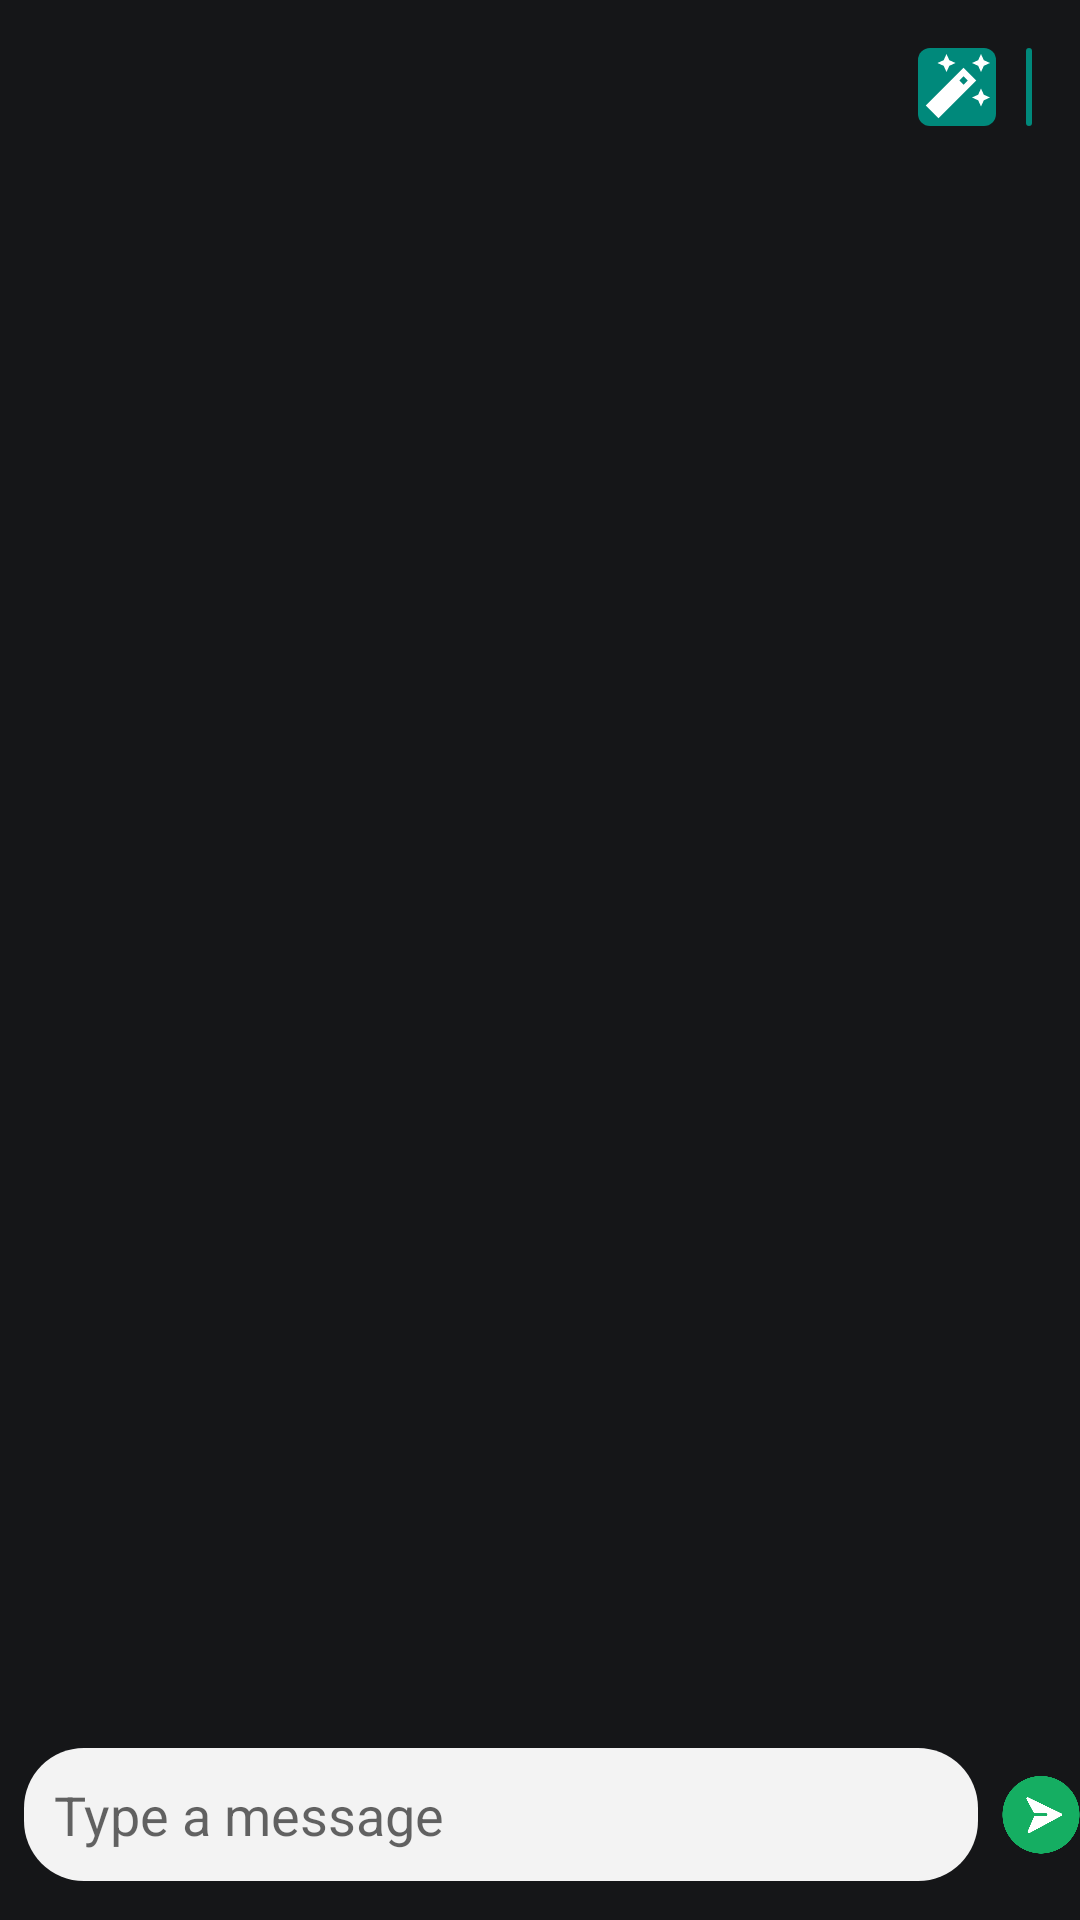

Icon bounding boxes for this 1080*1920 phone screenshot, format (x1, y1, x2, y2):
auto fix high: (918, 48, 996, 126)
